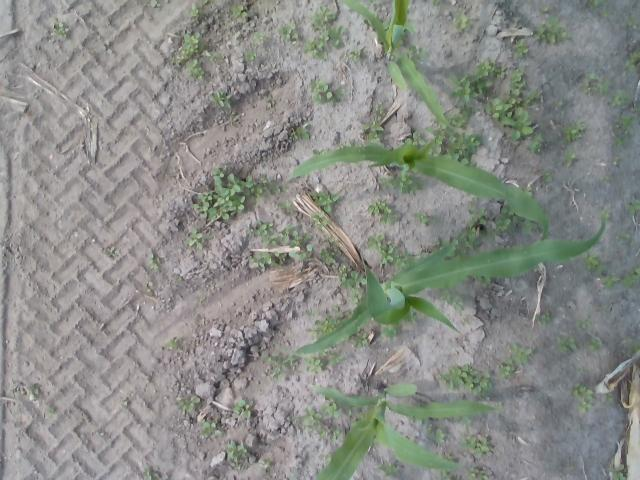Maize: (275, 214, 605, 356), (291, 140, 549, 240), (306, 382, 498, 480), (338, 0, 454, 130)
Weeds: (484, 66, 544, 152), (194, 167, 267, 221), (426, 104, 484, 166), (451, 59, 506, 102), (434, 364, 492, 398), (464, 198, 487, 248), (261, 350, 296, 382), (173, 32, 200, 67), (534, 17, 570, 43), (304, 31, 328, 60), (581, 74, 612, 96), (310, 5, 335, 32), (462, 434, 490, 458), (289, 234, 312, 262), (311, 190, 339, 213), (402, 164, 422, 194), (306, 315, 337, 333), (439, 288, 462, 312), (507, 343, 531, 366), (226, 439, 248, 462), (496, 206, 514, 234), (563, 121, 586, 142), (245, 221, 275, 237), (621, 52, 640, 76), (310, 77, 328, 102), (366, 199, 394, 215), (248, 252, 271, 270), (10, 386, 39, 400), (341, 270, 366, 286), (608, 89, 630, 107), (408, 46, 426, 68), (376, 460, 399, 477), (186, 227, 203, 250), (584, 255, 604, 274), (302, 407, 322, 426), (572, 382, 593, 400), (50, 17, 68, 38), (303, 356, 323, 374), (394, 248, 412, 268), (200, 420, 220, 438), (177, 396, 201, 411), (362, 122, 384, 138), (209, 92, 232, 107), (234, 400, 253, 418), (512, 38, 529, 58), (327, 87, 344, 107), (556, 336, 577, 352), (406, 130, 428, 145), (622, 267, 640, 285), (381, 323, 402, 338), (282, 224, 298, 243), (601, 272, 619, 288), (620, 115, 638, 131), (322, 244, 338, 262), (380, 176, 400, 190), (190, 59, 204, 79), (330, 26, 344, 46), (607, 463, 624, 479), (278, 24, 294, 40), (352, 332, 368, 348), (624, 199, 640, 215), (312, 212, 328, 228), (529, 133, 543, 151), (379, 246, 393, 264), (366, 234, 384, 248), (429, 429, 445, 444), (453, 12, 468, 28), (291, 128, 311, 140), (328, 352, 344, 366), (328, 426, 342, 442), (338, 264, 351, 281), (348, 44, 361, 61), (499, 366, 516, 378), (324, 403, 338, 417), (252, 28, 264, 44), (101, 246, 117, 258), (268, 182, 281, 196), (578, 400, 592, 413), (574, 318, 592, 328), (274, 251, 286, 266), (278, 201, 293, 213), (146, 0, 168, 8), (149, 253, 159, 270), (414, 211, 428, 223), (190, 3, 200, 18), (163, 338, 178, 348), (522, 184, 534, 196), (566, 150, 575, 166), (264, 236, 276, 248), (232, 5, 243, 18), (588, 340, 602, 350), (351, 288, 361, 302), (404, 311, 416, 322), (101, 42, 112, 54), (380, 214, 396, 222), (375, 104, 383, 120), (306, 309, 320, 318), (321, 234, 335, 243), (540, 312, 550, 324), (600, 208, 612, 218), (258, 458, 270, 468), (476, 278, 490, 286), (467, 468, 478, 478), (142, 468, 152, 479), (316, 426, 326, 437), (244, 50, 256, 59), (587, 0, 600, 8), (616, 136, 624, 148), (339, 142, 358, 147), (318, 453, 331, 460), (529, 91, 539, 100), (618, 231, 630, 238), (478, 470, 486, 480), (464, 416, 472, 426), (606, 396, 616, 404), (121, 396, 129, 406), (544, 172, 552, 181), (147, 281, 153, 293), (196, 296, 206, 303), (202, 0, 215, 5), (566, 462, 574, 470), (47, 406, 56, 413), (266, 98, 272, 108), (174, 273, 182, 280), (289, 250, 297, 257), (625, 19, 634, 25), (194, 314, 199, 324), (632, 346, 640, 352), (602, 175, 610, 181), (555, 101, 563, 107), (540, 6, 548, 12), (292, 416, 298, 424), (210, 54, 216, 61), (320, 350, 328, 355), (576, 368, 584, 373), (242, 12, 248, 18), (428, 423, 432, 431), (495, 402, 503, 406), (292, 34, 298, 39), (614, 156, 618, 162), (334, 306, 338, 312)
